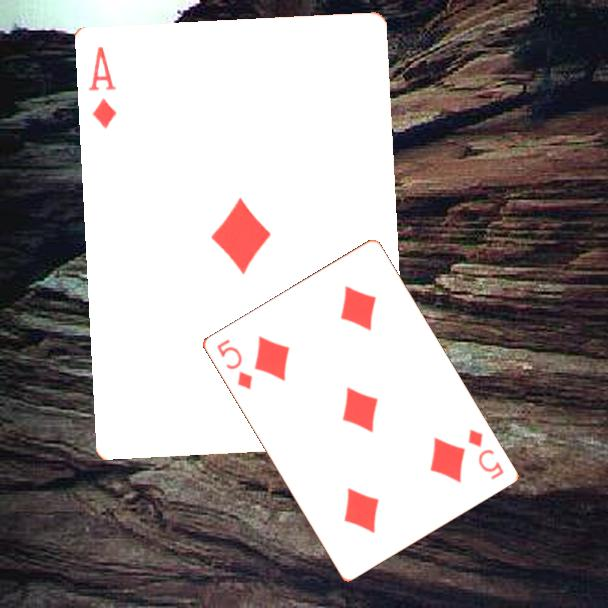d01: (84, 43, 119, 132)
d05: (213, 335, 255, 392), (464, 425, 506, 482)
